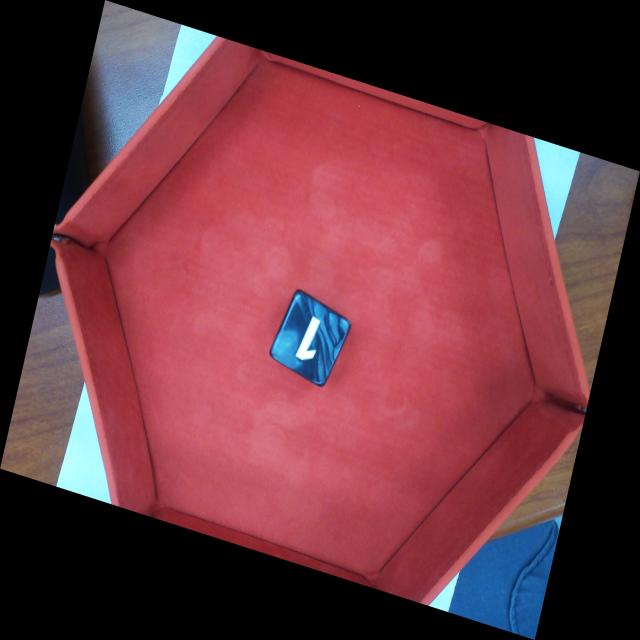dice: (271, 290, 353, 385)
